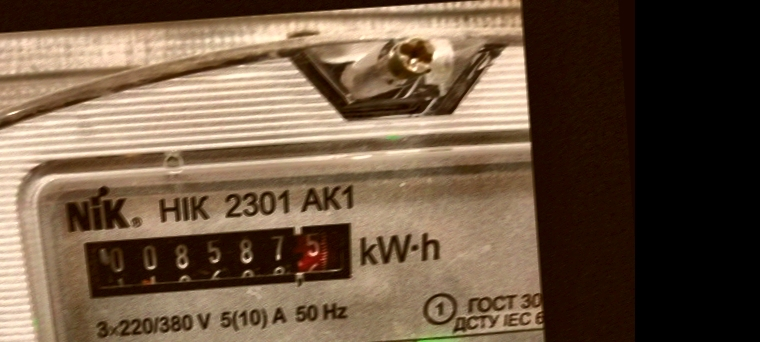0: (107, 245, 126, 275), (141, 244, 160, 273)
5: (304, 231, 323, 261), (205, 238, 224, 267)
7: (268, 233, 287, 264)
8: (237, 236, 256, 267), (173, 242, 191, 271)
screen: (66, 208, 373, 312)
